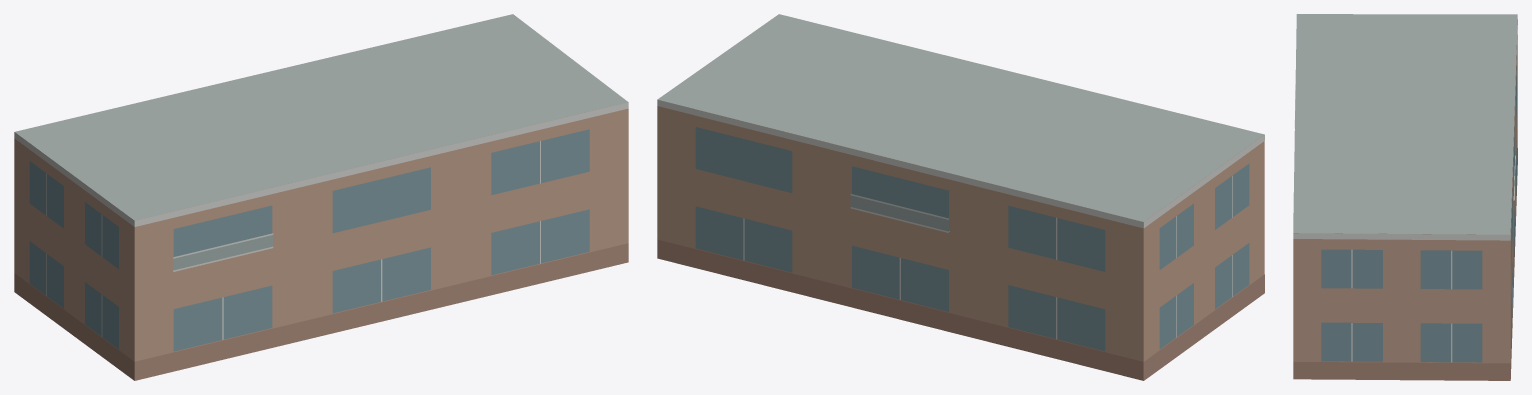
Rendered from survey-upis-32919909.glb.
3 views of the same model, side by side, from view 1: azimuth 30°, elevation 25°; view 2: azimuth 150°, elevation 25°; view 3: azimuth 270°, elevation 25° (orthographic). The views are drawn at different scales.
Visible parts, largest first — view 1: survey-upis-32919909.tmp; view 2: survey-upis-32919909.tmp; view 3: survey-upis-32919909.tmp.
Boxes of the visible parts, x1=… form: survey-upis-32919909.tmp: x1=14, y1=14, x2=628, y2=380; survey-upis-32919909.tmp: x1=657, y1=14, x2=1264, y2=380; survey-upis-32919909.tmp: x1=1293, y1=14, x2=1517, y2=380.
Bounding box in the file's own units: 19.76 × 6.1 × 8.51.
